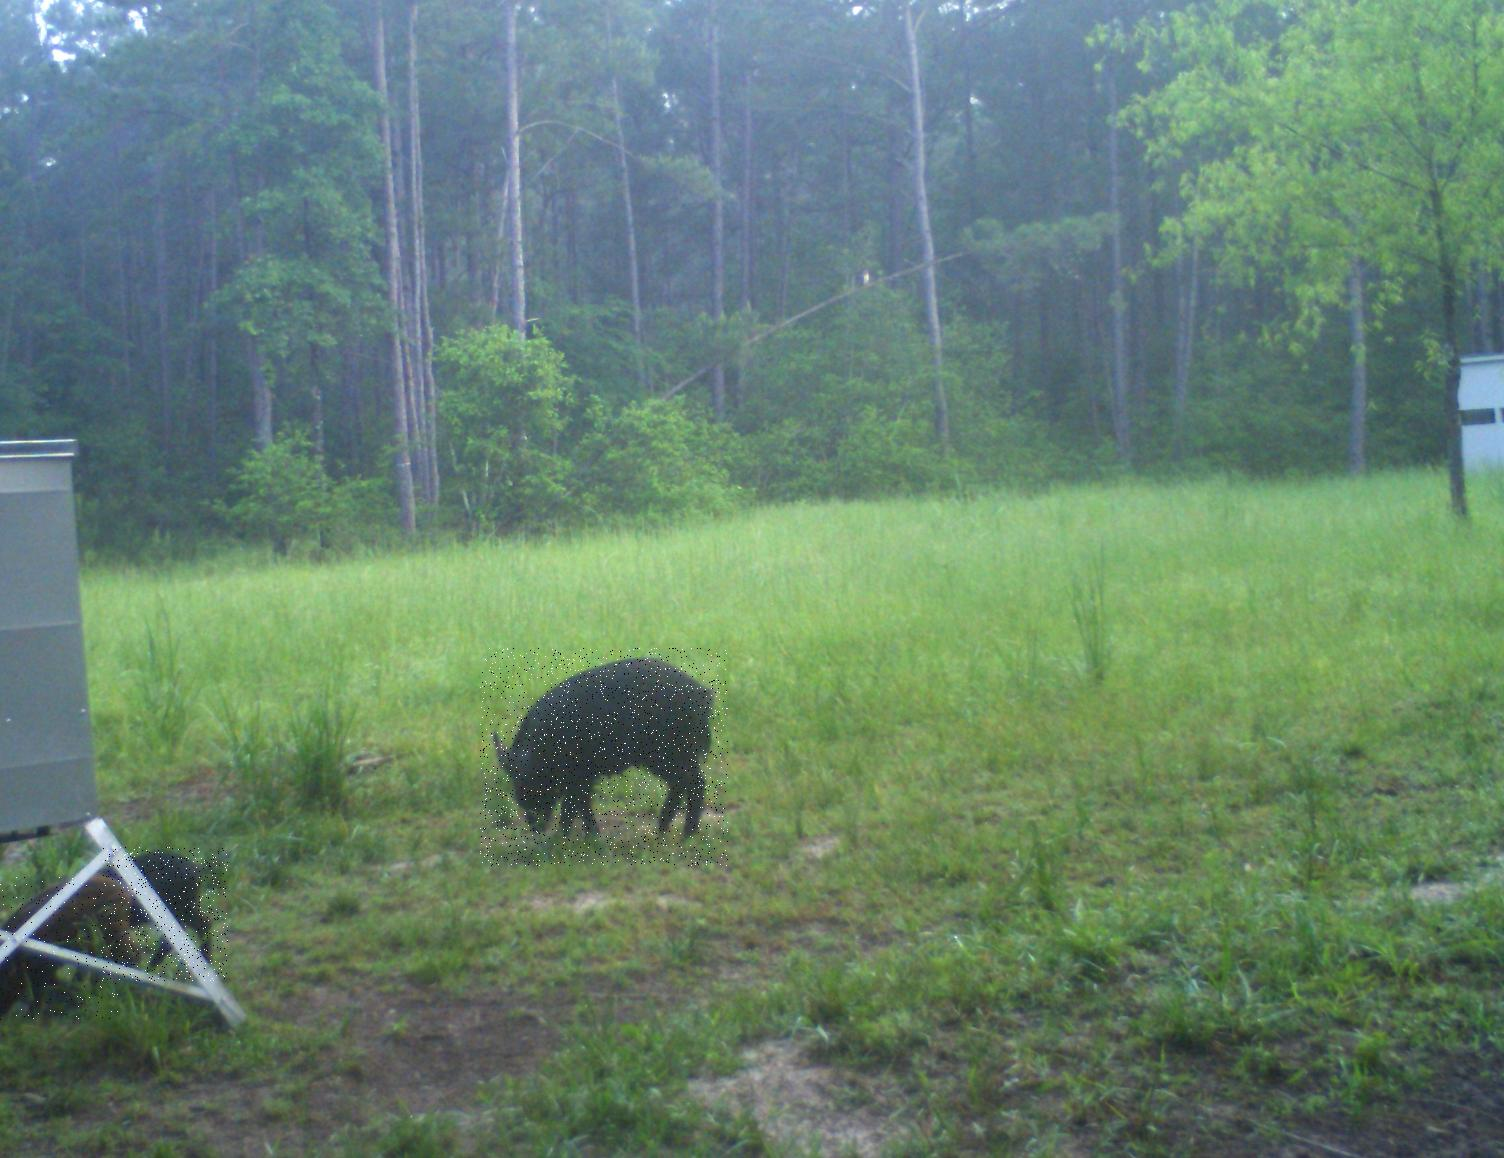Hog: (480, 648, 728, 866), (0, 877, 123, 1021), (102, 847, 229, 980)
